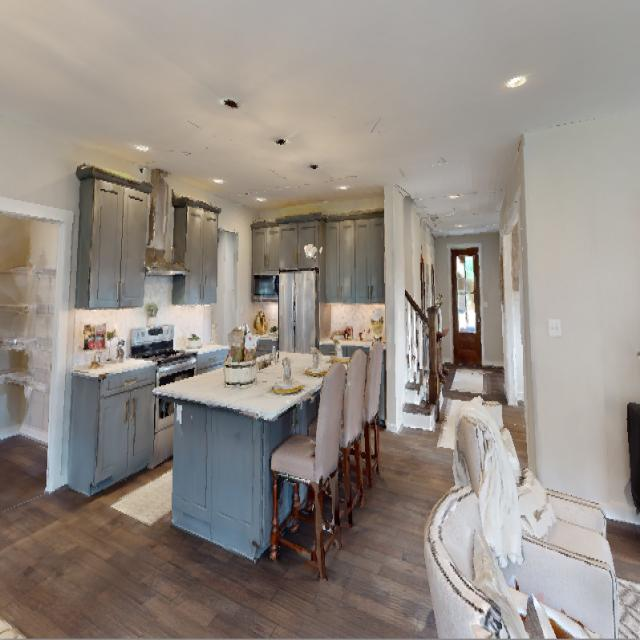chair: (264, 347, 351, 590), (336, 336, 370, 534), (358, 328, 394, 502)
sofa: (414, 449, 633, 640), (434, 382, 627, 540)
table: (162, 334, 331, 566)
